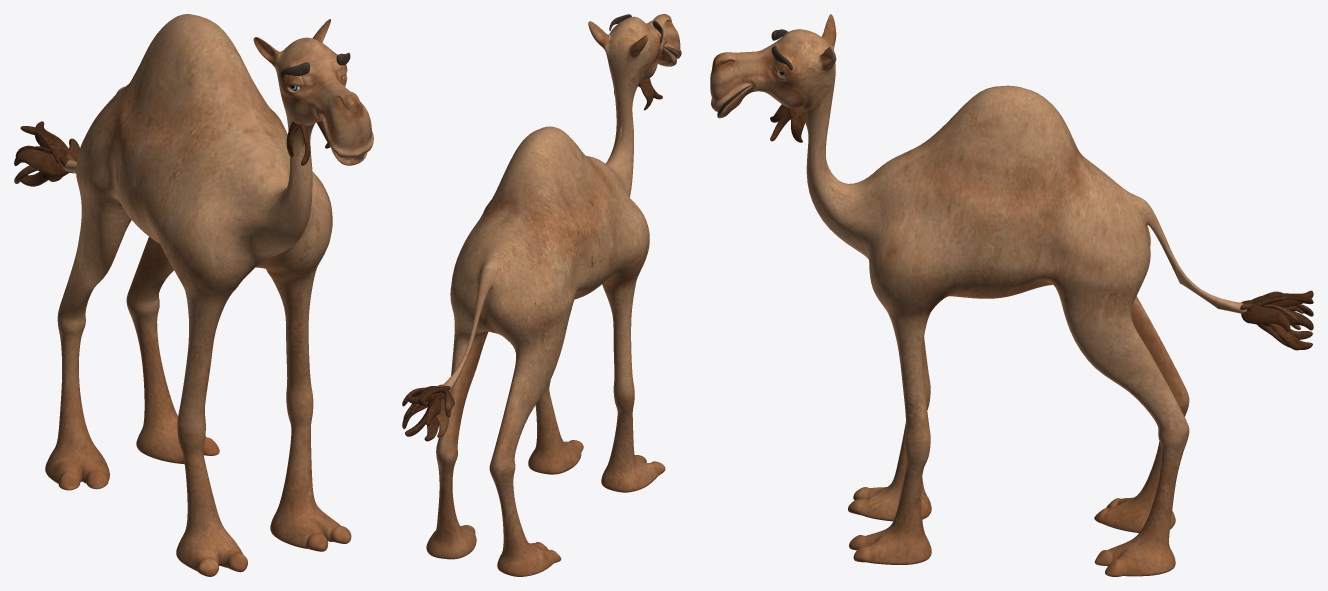
Rendered from camel.gltf.
The picture shows the model from 3 angles, left to right: view 1: azimuth 30°, elevation 25°; view 2: azimuth 150°, elevation 25°; view 3: azimuth 270°, elevation 25°; orthographic projection. The views are drawn at different scales.
Visible parts, largest first — view 1: Camel; view 2: Camel; view 3: Camel.
Part boxes in pixels (x1,y1,x2,y2): Camel: [14, 14, 373, 576]; Camel: [402, 14, 681, 576]; Camel: [710, 14, 1313, 576].
Bounding box in the file's own units: 56.16 × 189 × 201.
1 material, 1 textured.
